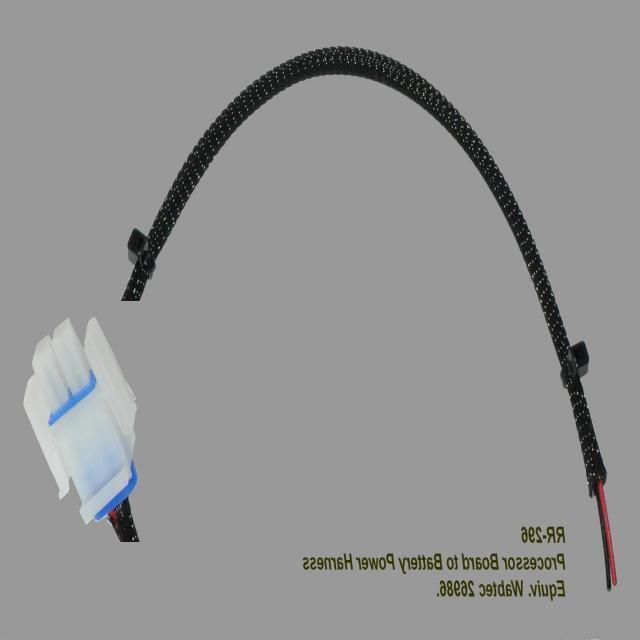connector: (103, 0, 640, 589), (0, 307, 171, 531)
